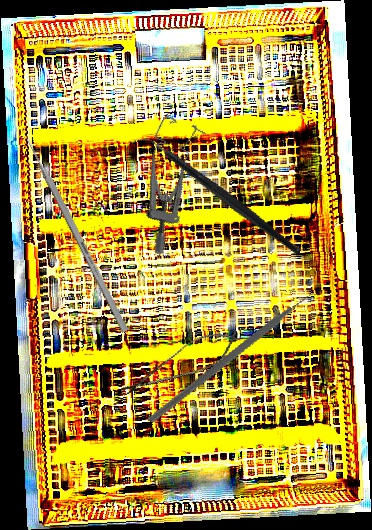Chopper: (147, 254, 329, 465), (131, 94, 303, 297)
Micro Scissor: (115, 321, 246, 408)
Pusher: (16, 122, 130, 334)
Speculum: (110, 110, 219, 258)
